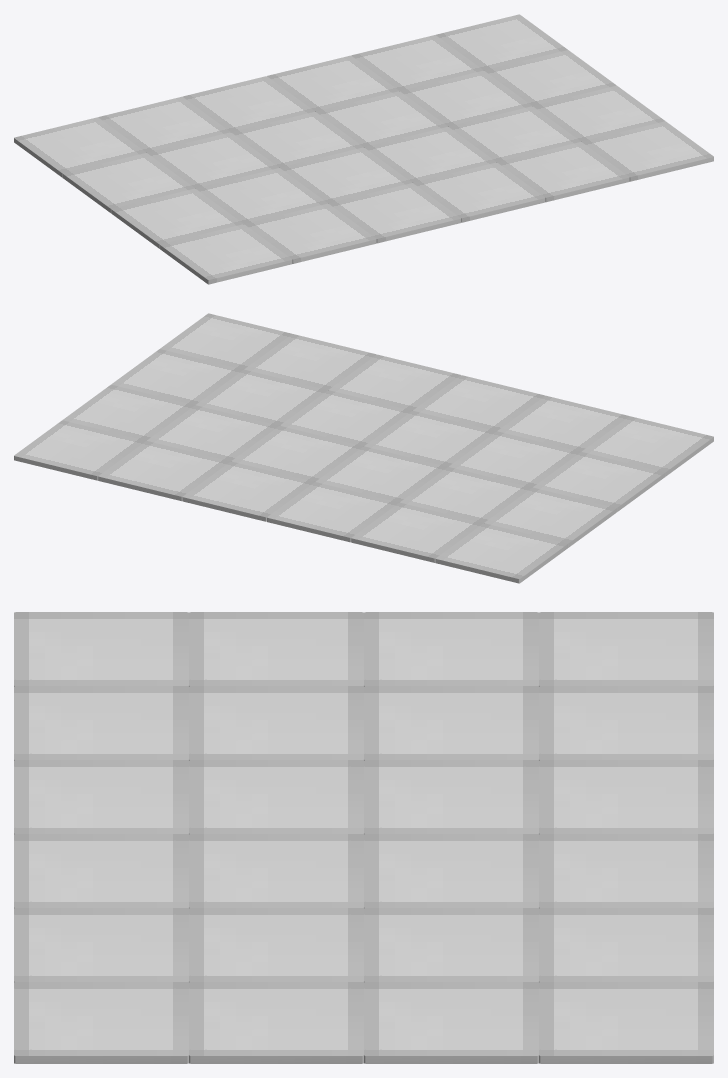
File: Map.glb
3 views of the same model, one above another, from view 1: azimuth 30°, elevation 25°; view 2: azimuth 150°, elevation 25°; view 3: azimuth 270°, elevation 25° (orthographic). The views are drawn at different scales.
Visible parts, largest first — view 1: Floor; view 2: Floor; view 3: Floor.
Boxes of the visible parts, x1=… form: Floor: x1=14, y1=14, x2=713, y2=284; Floor: x1=14, y1=313, x2=713, y2=583; Floor: x1=14, y1=612, x2=713, y2=1063.
Bounding box in the file's own units: 6 × 0.05 × 4.
1 material, 1 textured.
